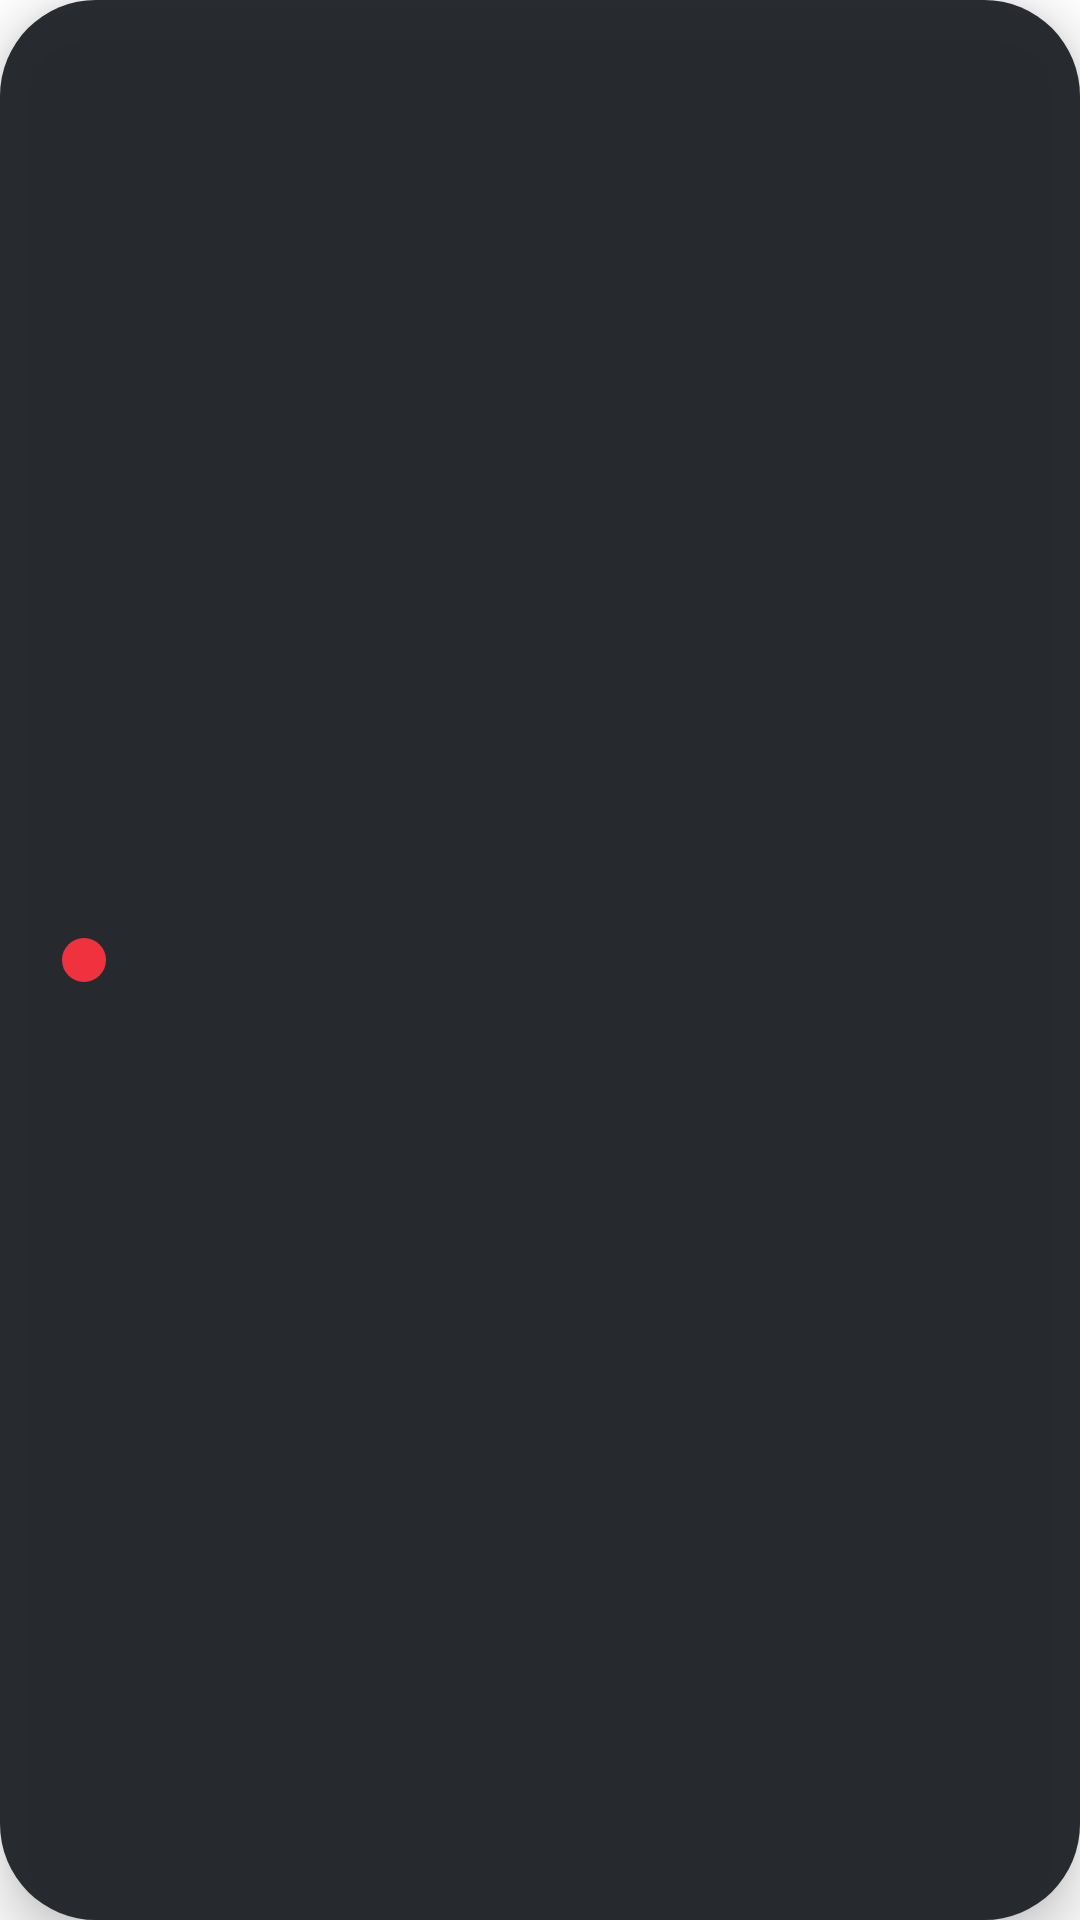

Where icons sit on this 1080w x 1920h app screen, as (x1, y1, x2, y2):
Record: (62, 938, 106, 982)
